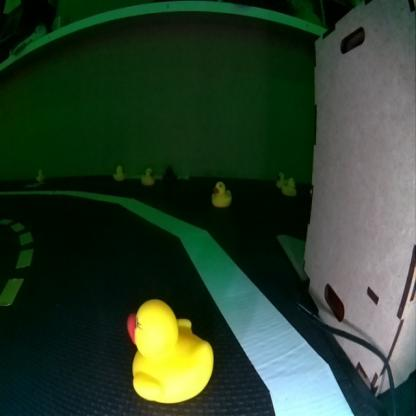Duckie: (126, 300, 214, 400), (210, 181, 230, 205), (140, 166, 154, 184), (282, 178, 296, 194), (112, 164, 124, 180), (276, 170, 286, 186)
